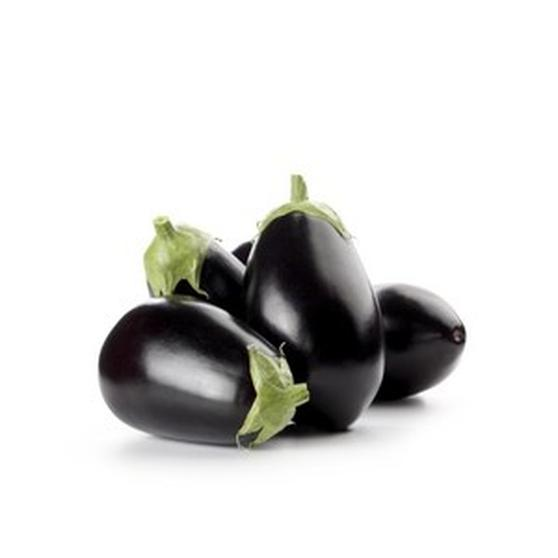eggplant: (99, 296, 309, 446)
